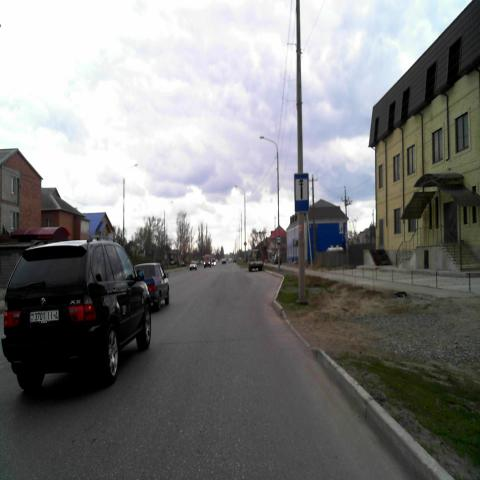7_4: (295, 173, 309, 211)
